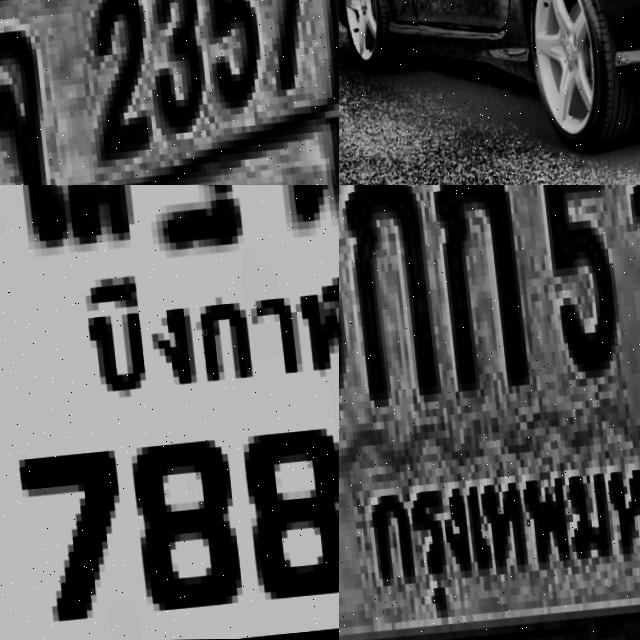license-plate: (0, 185, 339, 640), (339, 185, 640, 640), (0, 0, 339, 185)
